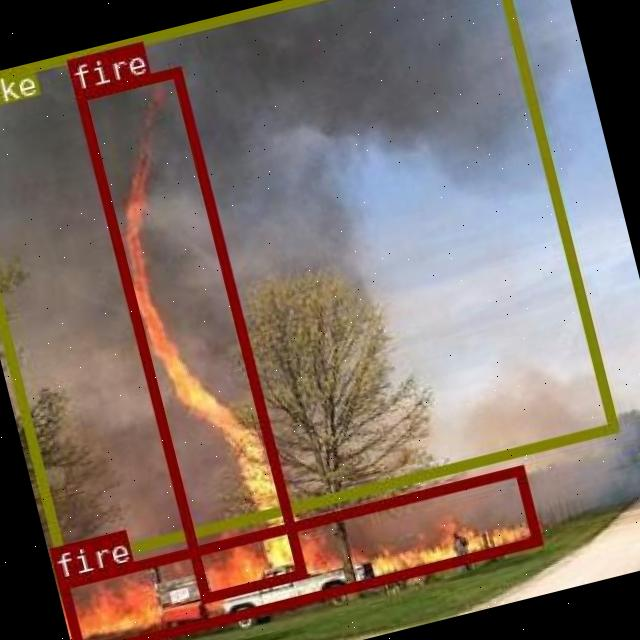fire: (74, 65, 306, 602), (56, 464, 539, 640)
smoke: (0, 0, 616, 570)
